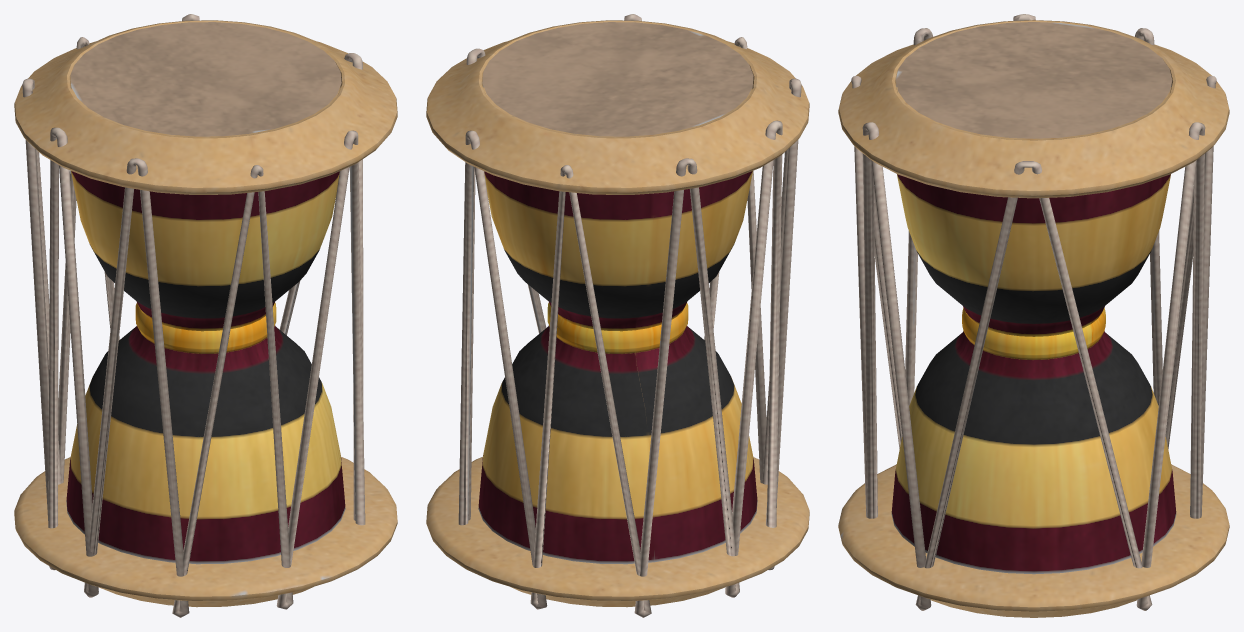
The model's file is Udakkiya.gltf.
3 views of the same model, side by side, from view 1: azimuth 30°, elevation 25°; view 2: azimuth 150°, elevation 25°; view 3: azimuth 270°, elevation 25° (orthographic).
Visible parts, largest first — view 1: Cylinder.003, Plane.001, Cylinder.004, Uddakkiya_top, Cylinder.006; view 2: Cylinder.003, Plane.001, Cylinder.004, Uddakkiya_top, Cylinder.006; view 3: Cylinder.003, Plane.001, Cylinder.004, Uddakkiya_top, Cylinder.006.
Part boxes in pixels (left/top/right/bottom): Cylinder.003: left=66, top=171, right=345, bottom=564; Plane.001: left=22, top=14, right=365, bottom=617; Cylinder.004: left=14, top=20, right=397, bottom=194; Uddakkiya_top: left=70, top=22, right=341, bottom=136; Cylinder.006: left=14, top=457, right=397, bottom=607; Cylinder.003: left=478, top=171, right=757, bottom=564; Plane.001: left=458, top=14, right=801, bottom=617; Cylinder.004: left=426, top=20, right=809, bottom=194; Uddakkiya_top: left=482, top=22, right=753, bottom=136; Cylinder.006: left=426, top=457, right=809, bottom=607; Cylinder.003: left=891, top=174, right=1176, bottom=574; Plane.001: left=851, top=14, right=1216, bottom=610; Cylinder.004: left=838, top=20, right=1229, bottom=198; Uddakkiya_top: left=895, top=22, right=1172, bottom=138; Cylinder.006: left=838, top=464, right=1229, bottom=617.
Bounding box in the file's own units: 2.99 × 4.05 × 2.99.
1 material, 1 textured.
